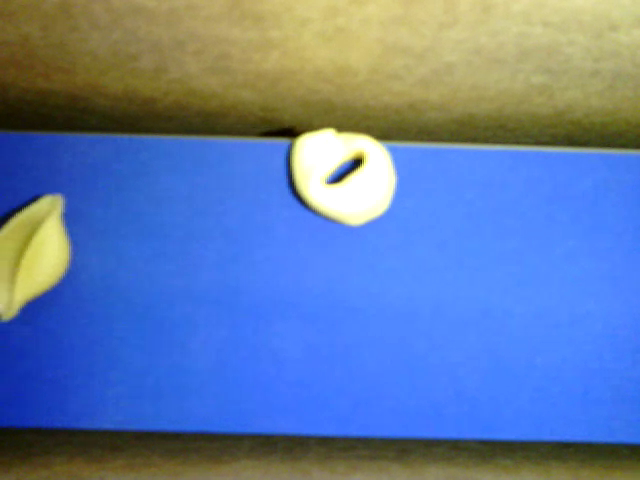shell: (1, 191, 71, 321)
tortellini: (290, 126, 397, 227)
